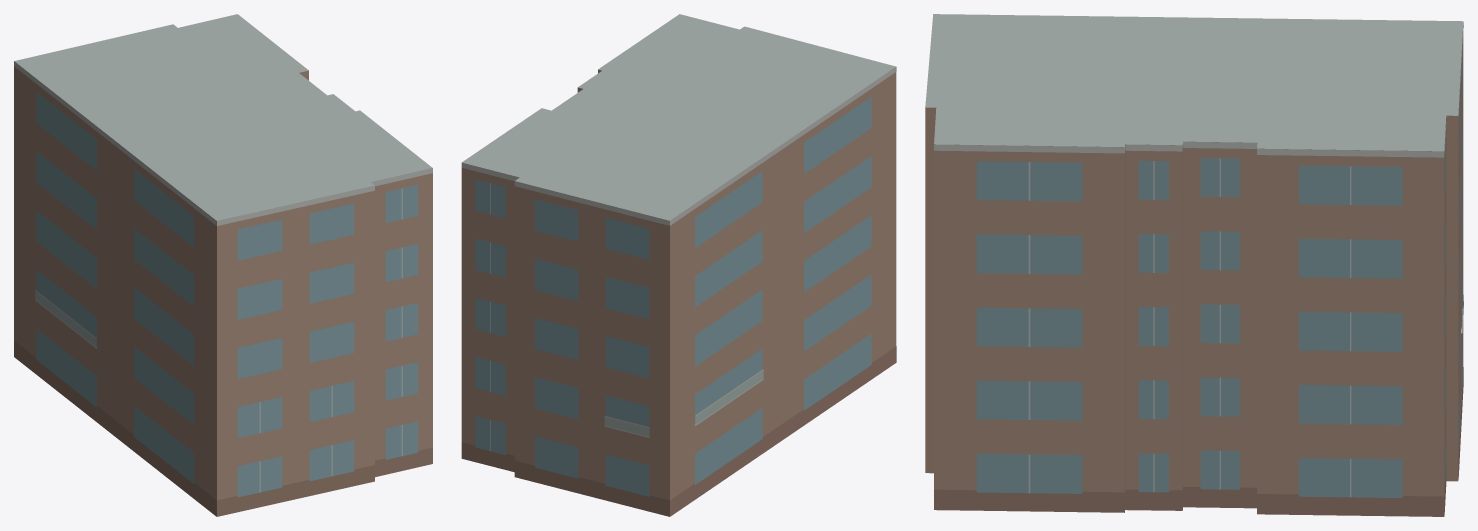
Rendered from survey-upis-32540580.glb.
3 views of the same model, side by side, from view 1: azimuth 30°, elevation 25°; view 2: azimuth 150°, elevation 25°; view 3: azimuth 270°, elevation 25° (orthographic). The views are drawn at different scales.
Parts seen in each view (by area): view 1: survey-upis-32540580.tmp; view 2: survey-upis-32540580.tmp; view 3: survey-upis-32540580.tmp.
Boxes of the visible parts, box(x1,y1,x2,y2) form: survey-upis-32540580.tmp: box(14, 14, 432, 516); survey-upis-32540580.tmp: box(461, 14, 896, 516); survey-upis-32540580.tmp: box(925, 14, 1463, 516).
Bounding box in the file's own units: 11.37 × 14.1 × 18.83.
